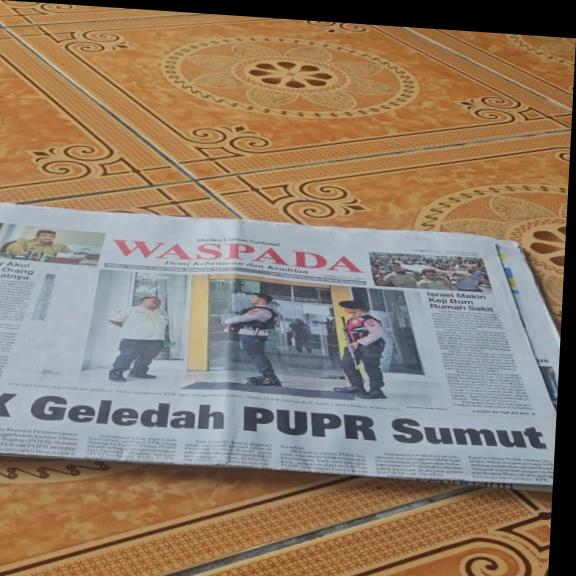Kertas: (0, 209, 555, 488)
